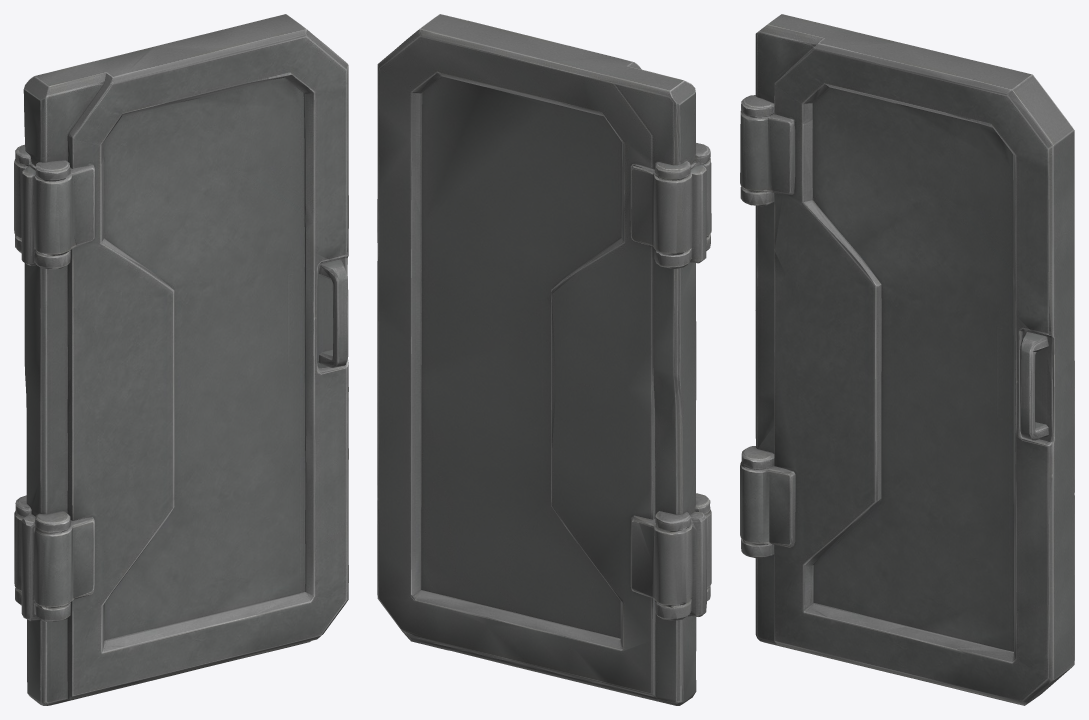
File: imperial_armoured_bunker__entrance_door_leaf.glb
The picture shows the model from 3 angles, left to right: view 1: azimuth 30°, elevation 25°; view 2: azimuth 150°, elevation 25°; view 3: azimuth 330°, elevation 25°; orthographic projection.
Visible parts, largest first — view 1: mesh_node; view 2: mesh_node; view 3: mesh_node.
Boxes of the visible parts, bbox=[...] form: mesh_node: bbox=[14, 14, 348, 705]; mesh_node: bbox=[377, 14, 711, 705]; mesh_node: bbox=[740, 14, 1074, 705].
Size of the model in its own units: 1.32 by 2.47 by 0.2997.
1 material, 1 textured.
